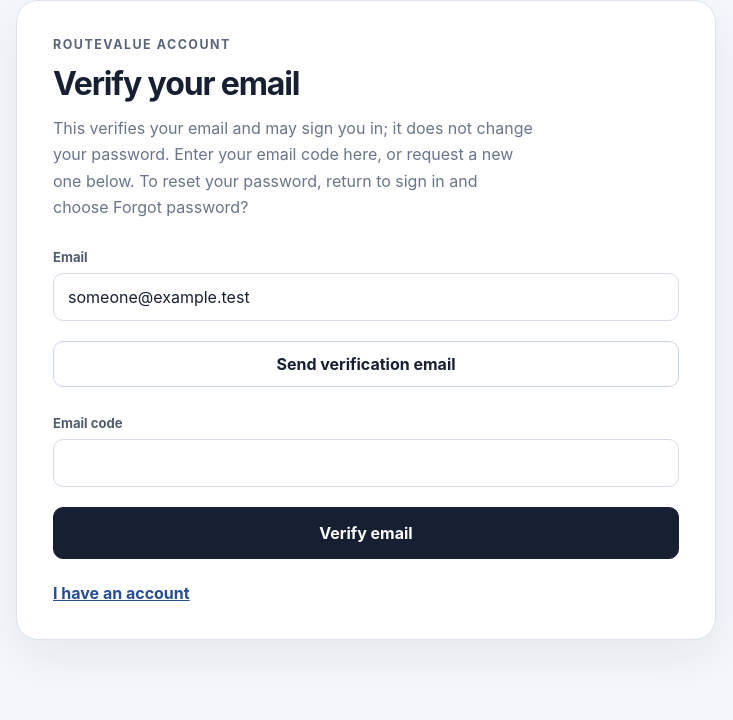
Test case: does not accept an explicit false-success provider result
The width and height of the screenshot is (733, 720).
Step 1. Type "000000" into the field labelled "Email code" → [366, 463], box 53,439 -> 679,487
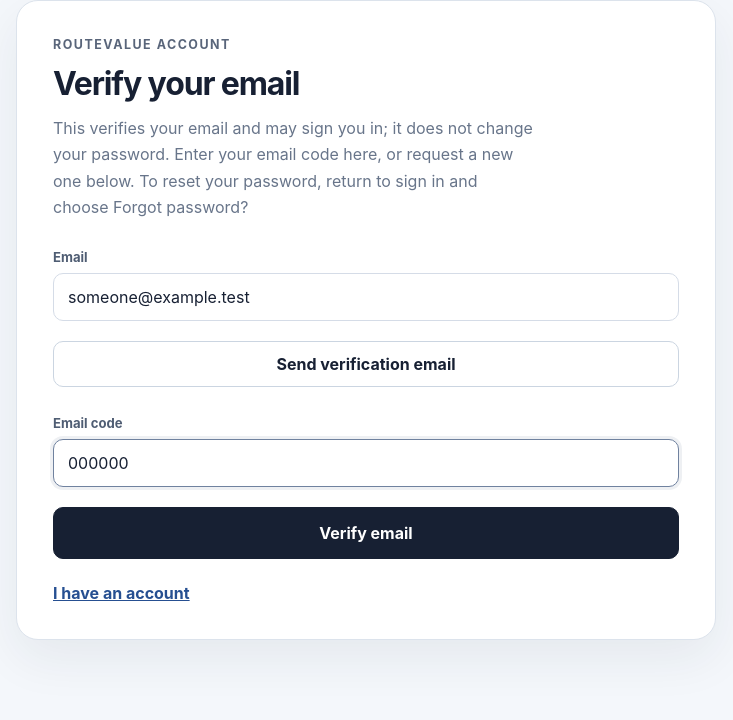
Step 2. Click the button "Verify email" → [366, 533], box 53,507 -> 679,559
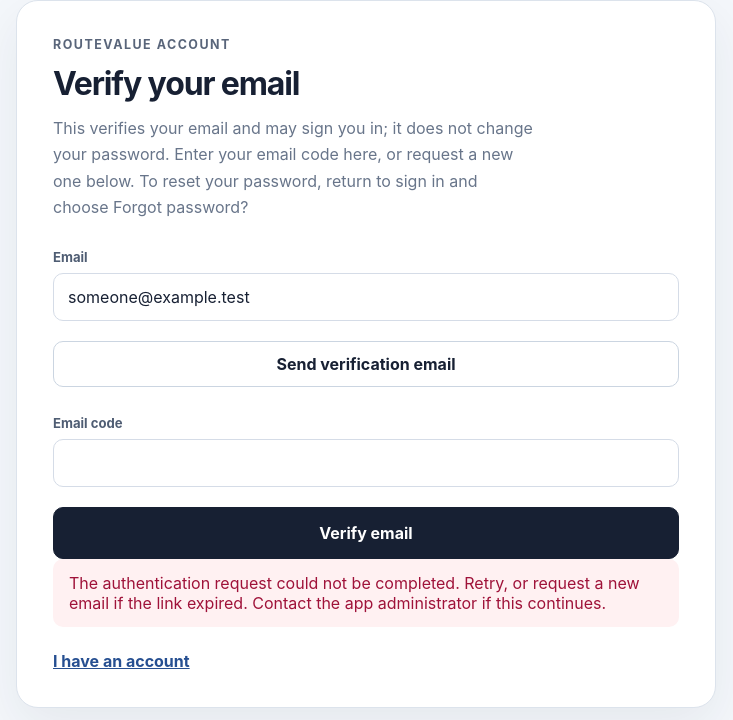
Now the message is shown, box 53,559 -> 679,627
